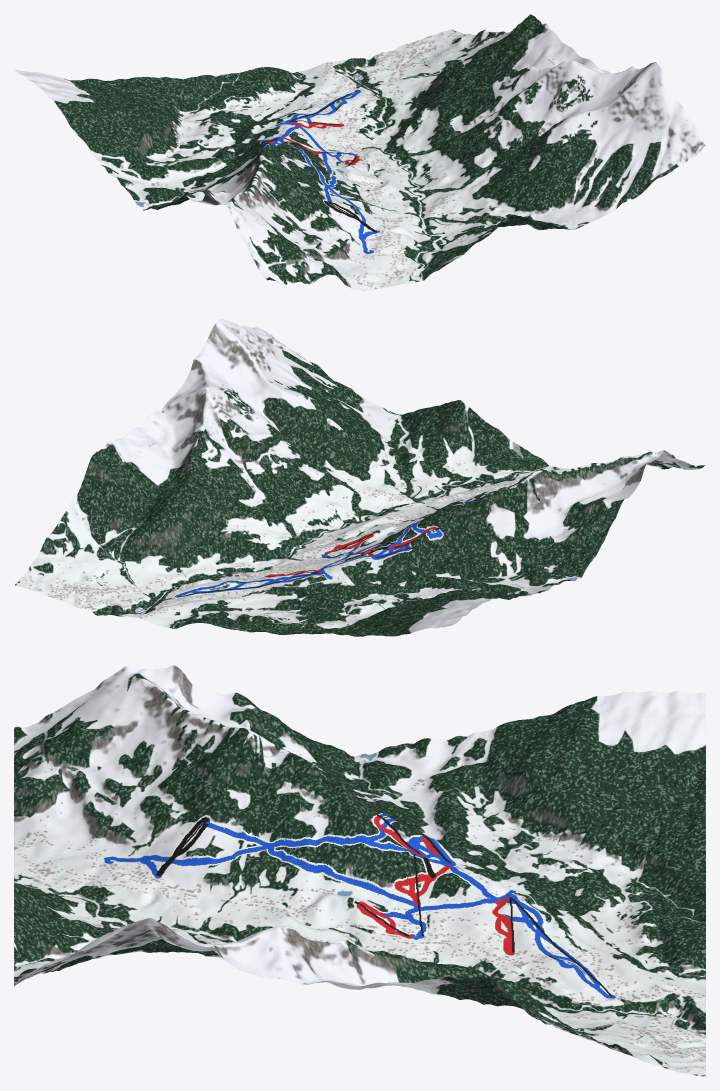
3 views of the same model, one above another, from view 1: azimuth 30°, elevation 25°; view 2: azimuth 150°, elevation 25°; view 3: azimuth 270°, elevation 25° (orthographic). The views are drawn at different scales.
Parts seen in each view (by area): view 1: B2_Heuberg.glb; view 2: B2_Heuberg.glb; view 3: B2_Heuberg.glb.
Part boxes in pixels (x1,y1,x2,y2): B2_Heuberg.glb: (14,14,705,290); B2_Heuberg.glb: (14,319,705,636); B2_Heuberg.glb: (14,665,705,1076).
Size of the model in its own units: 4917 by 1372 by 4917.
1 material, 1 textured.
